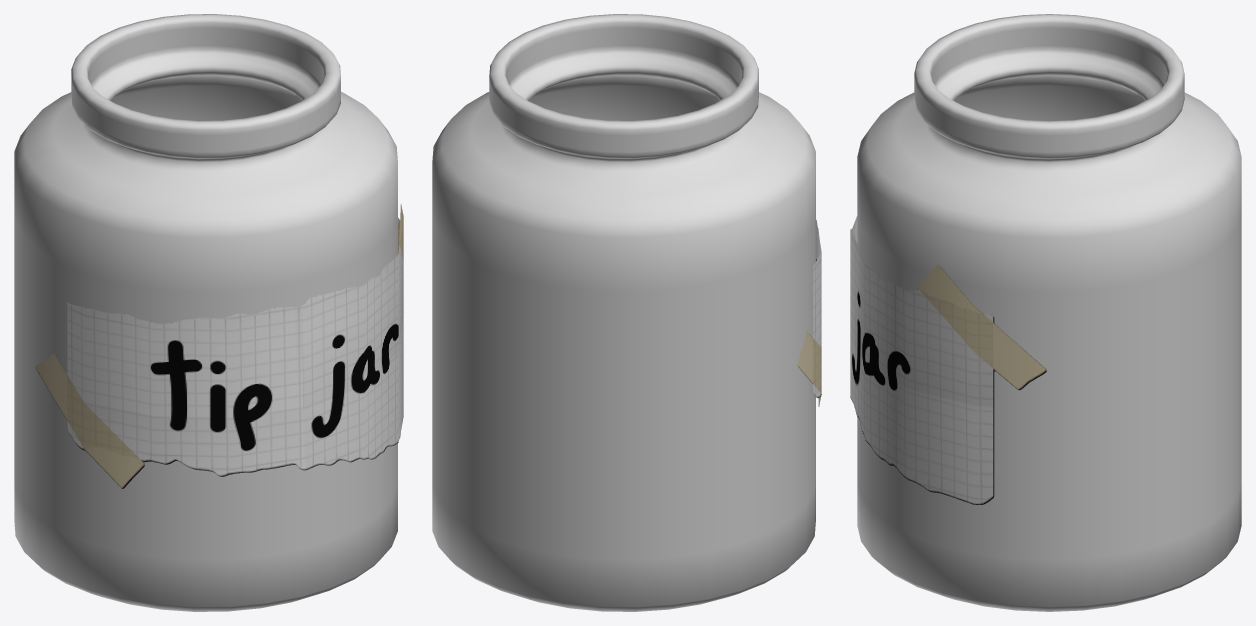
File: tip-jar.fbx
3 renders of one model, left to right at view 1: azimuth 30°, elevation 25°; view 2: azimuth 150°, elevation 25°; view 3: azimuth 270°, elevation 25°, orthographic.
Visible parts, largest first — view 1: Jar, Text; view 2: Jar, Text; view 3: Jar, Text.
Boxes of the visible parts, x1=… form: Jar: x1=14, y1=14, x2=397, y2=611; Text: x1=35, y1=204, x2=403, y2=488; Jar: x1=432, y1=14, x2=815, y2=611; Text: x1=797, y1=219, x2=821, y2=406; Jar: x1=857, y1=14, x2=1241, y2=611; Text: x1=850, y1=216, x2=1046, y2=504.
Bounding box in the file's own units: 232 × 309 × 228.
3 materials, 2 textured.
